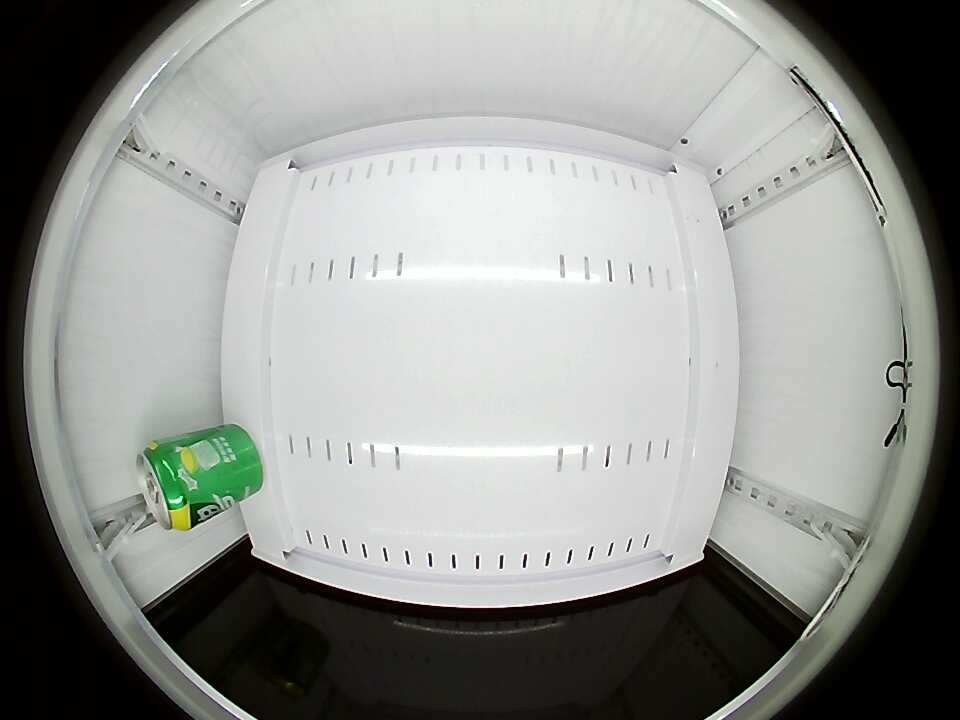xuebi2: (136, 439, 205, 531)
